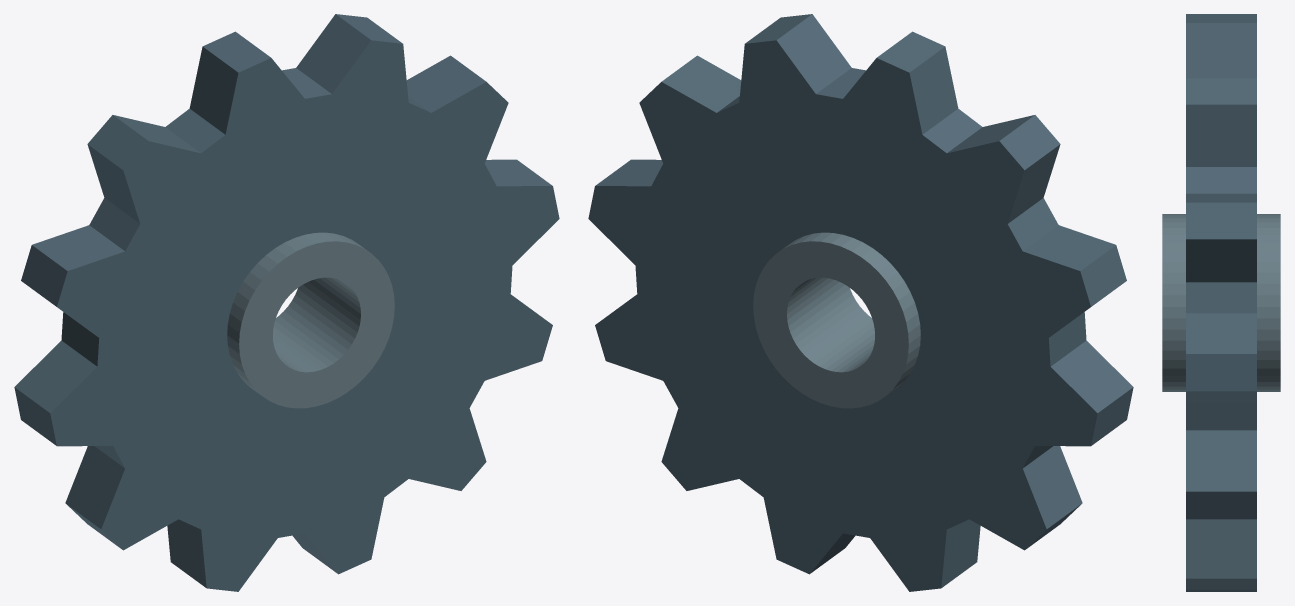
Rendered from 10_Gear_12T.obj.
The picture shows the model from 3 angles, left to right: view 1: azimuth 30°, elevation 25°; view 2: azimuth 150°, elevation 25°; view 3: azimuth 270°, elevation 25°; orthographic projection.
Size of the model in its own units: 0.9815 by 0.9815 by 0.2.
